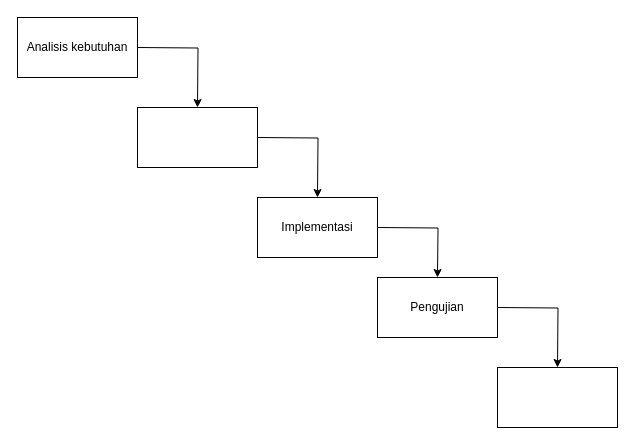
This 635x445 diagram has some shape labels left out. Here are the shapes that lost their labels. From the top down, the centre of each, then its label:
point (197, 137): Desain Sistem
point (557, 397): Pemeliharaan
